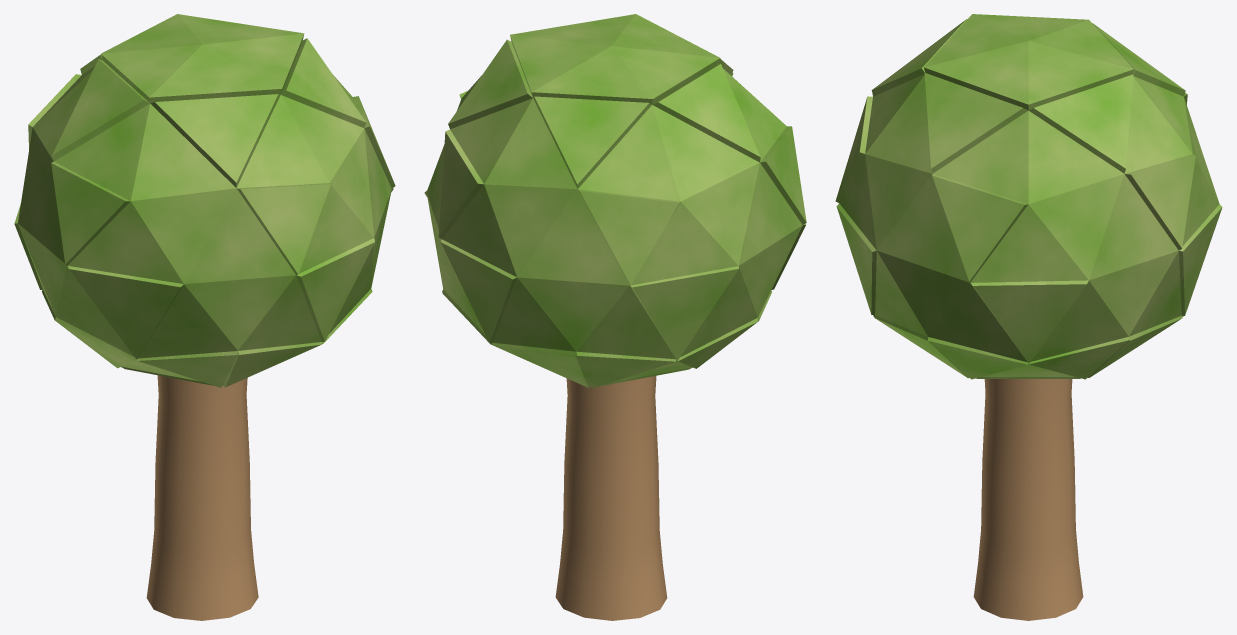
Rendered from tree-2.glb.
3 renders of one model, left to right at view 1: azimuth 30°, elevation 25°; view 2: azimuth 150°, elevation 25°; view 3: azimuth 270°, elevation 25°, orthographic.
Visible parts, largest first — view 1: LeafCluster_2A, Trunk_Lv2; view 2: LeafCluster_2A, Trunk_Lv2; view 3: LeafCluster_2A, Trunk_Lv2.
Boxes of the visible parts, x1=… form: LeafCluster_2A: x1=14, y1=14, x2=395, y2=387; Trunk_Lv2: x1=146, y1=375, x2=258, y2=620; LeafCluster_2A: x1=424, y1=14, x2=806, y2=388; Trunk_Lv2: x1=555, y1=376, x2=667, y2=620; LeafCluster_2A: x1=835, y1=14, x2=1222, y2=379; Trunk_Lv2: x1=973, y1=379, x2=1083, y2=620.
Bounding box in the file's own units: 1.34 × 2.15 × 1.36.
Materials: 2 (1 with a texture image).
